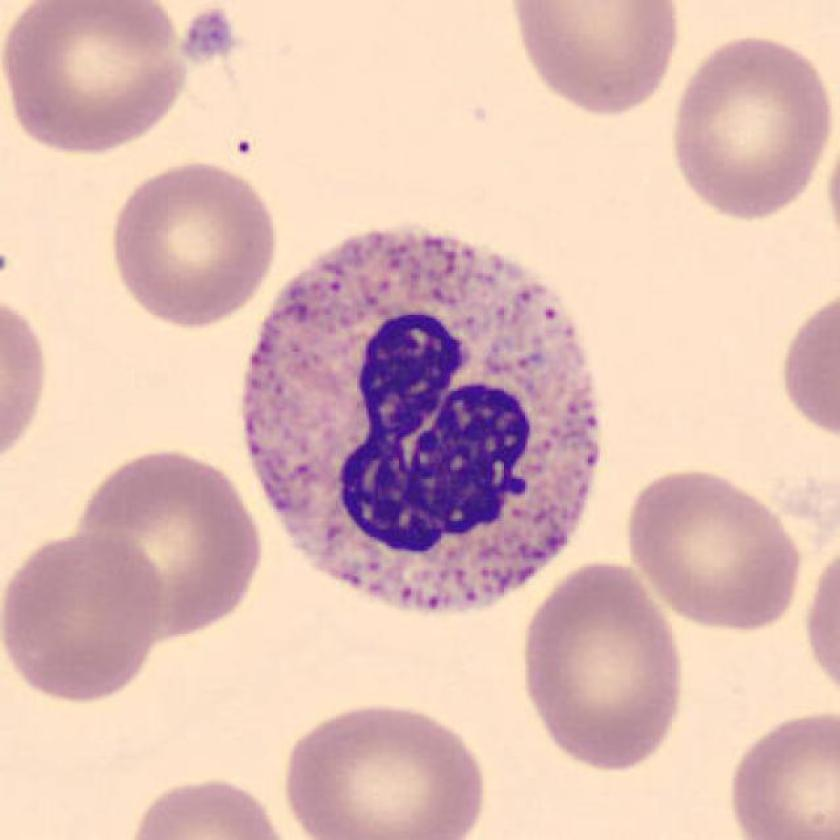neutrophil: (249, 233, 601, 614)
